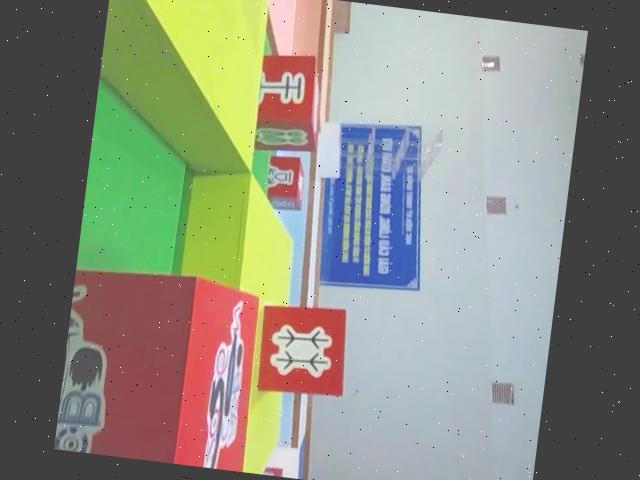R1: (53, 264, 268, 473)
R2 Fake: (244, 49, 330, 161)
R2 Real: (249, 299, 355, 403), (256, 153, 309, 212)
